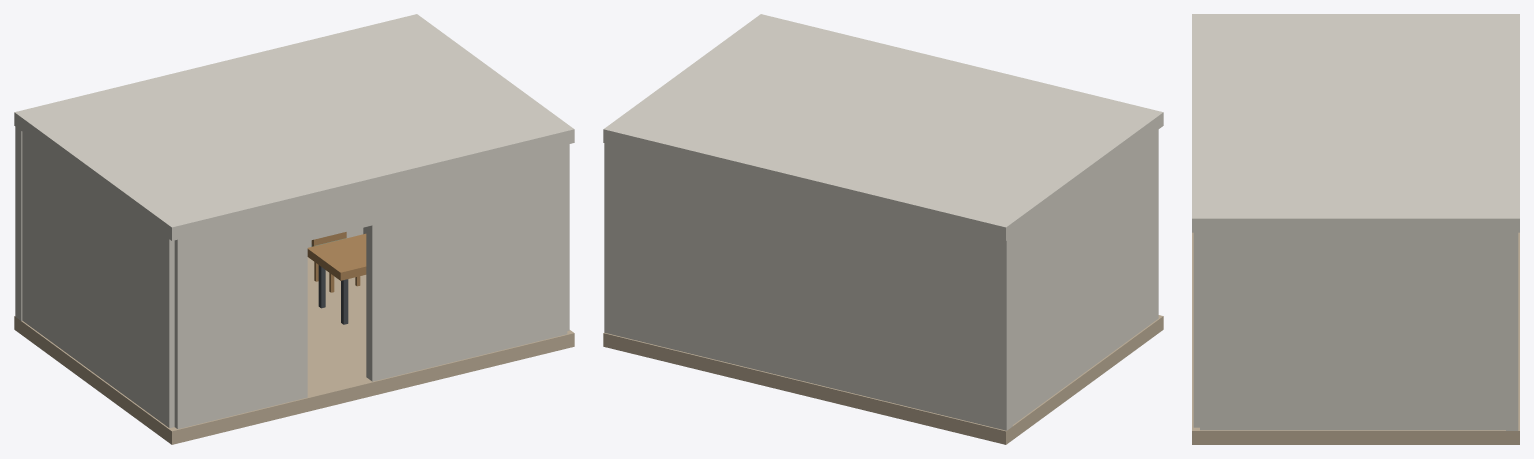
The model's file is demo-apartment.glb.
3 renders of one model, left to right at view 1: azimuth 30°, elevation 25°; view 2: azimuth 150°, elevation 25°; view 3: azimuth 270°, elevation 25°, orthographic. The views are drawn at different scales.
Visible parts, largest first — view 1: ceiling, wall-south-right, wall-west, wall-south-left, floor, entrance-lintel, dining-table__top, wall-north, wall-east; view 2: wall-north, ceiling, wall-west, floor; view 3: ceiling, wall-east, floor, wall-north, wall-south-right.
Boxes of the visible parts, x1,y1,x2,y2 form: ceiling: (14,14,574,240); wall-south-right: (366,144,567,381); wall-west: (22,132,174,428); wall-south-left: (174,208,307,428); floor: (14,257,574,444); entrance-lintel: (307,192,372,240); dining-table__top: (307,233,366,280); wall-north: (15,127,363,320); wall-east: (567,144,569,330); wall-north: (604,143,1012,430); ceiling: (603,14,1163,240); wall-west: (1012,129,1158,424); floor: (603,315,1163,444); ceiling: (1192,14,1519,232); wall-east: (1200,232,1505,430); floor: (1192,232,1519,444); wall-north: (1506,232,1518,430); wall-south-right: (1193,232,1199,427).
Size of the model in its own units: 6.2 by 3.2 by 4.2.
